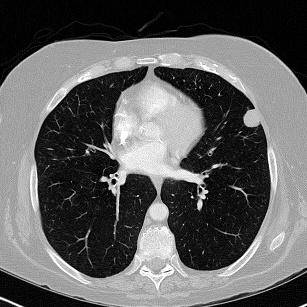PN: (242, 109, 260, 127)
